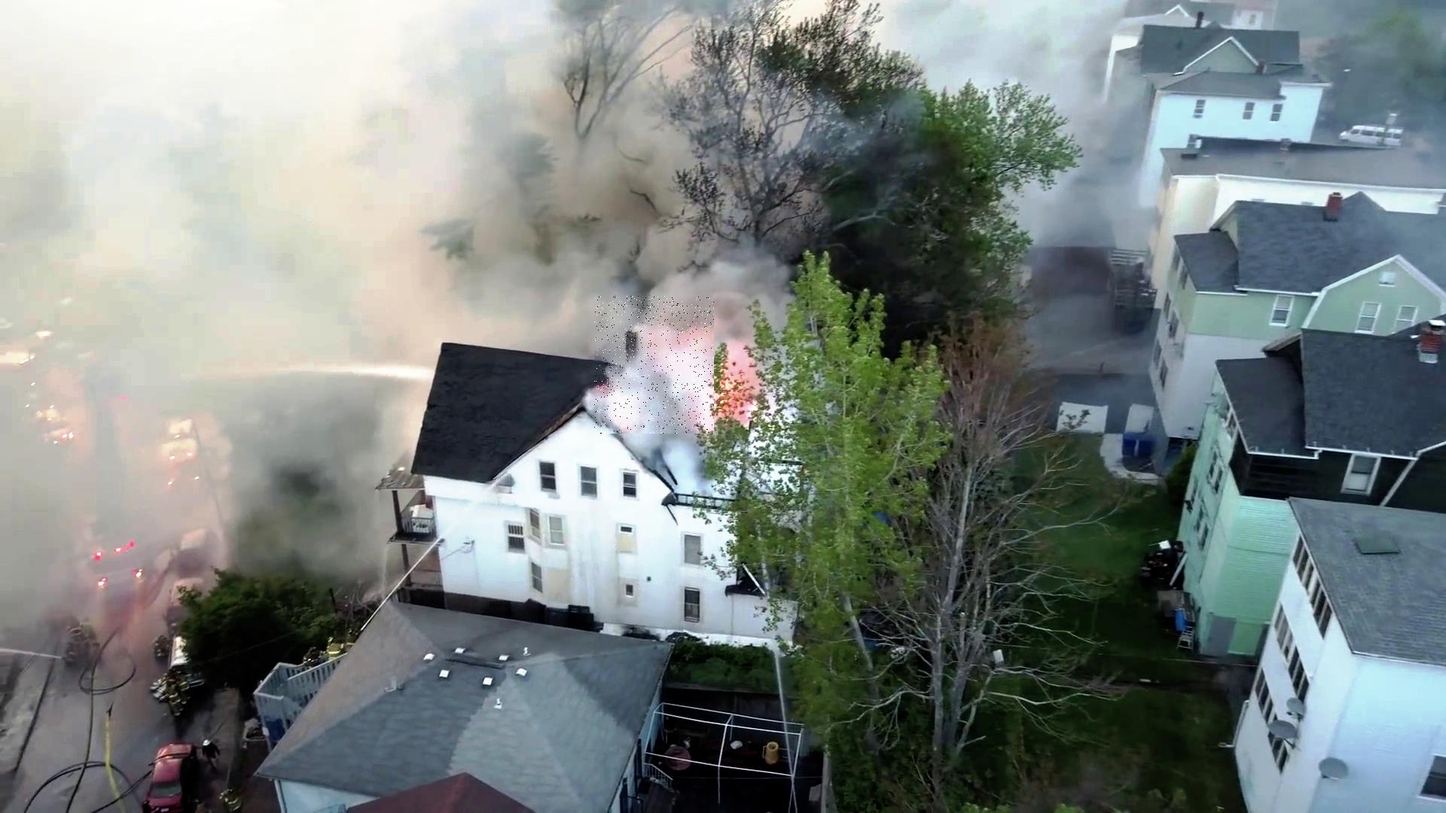smoke: (594, 296, 714, 434)
